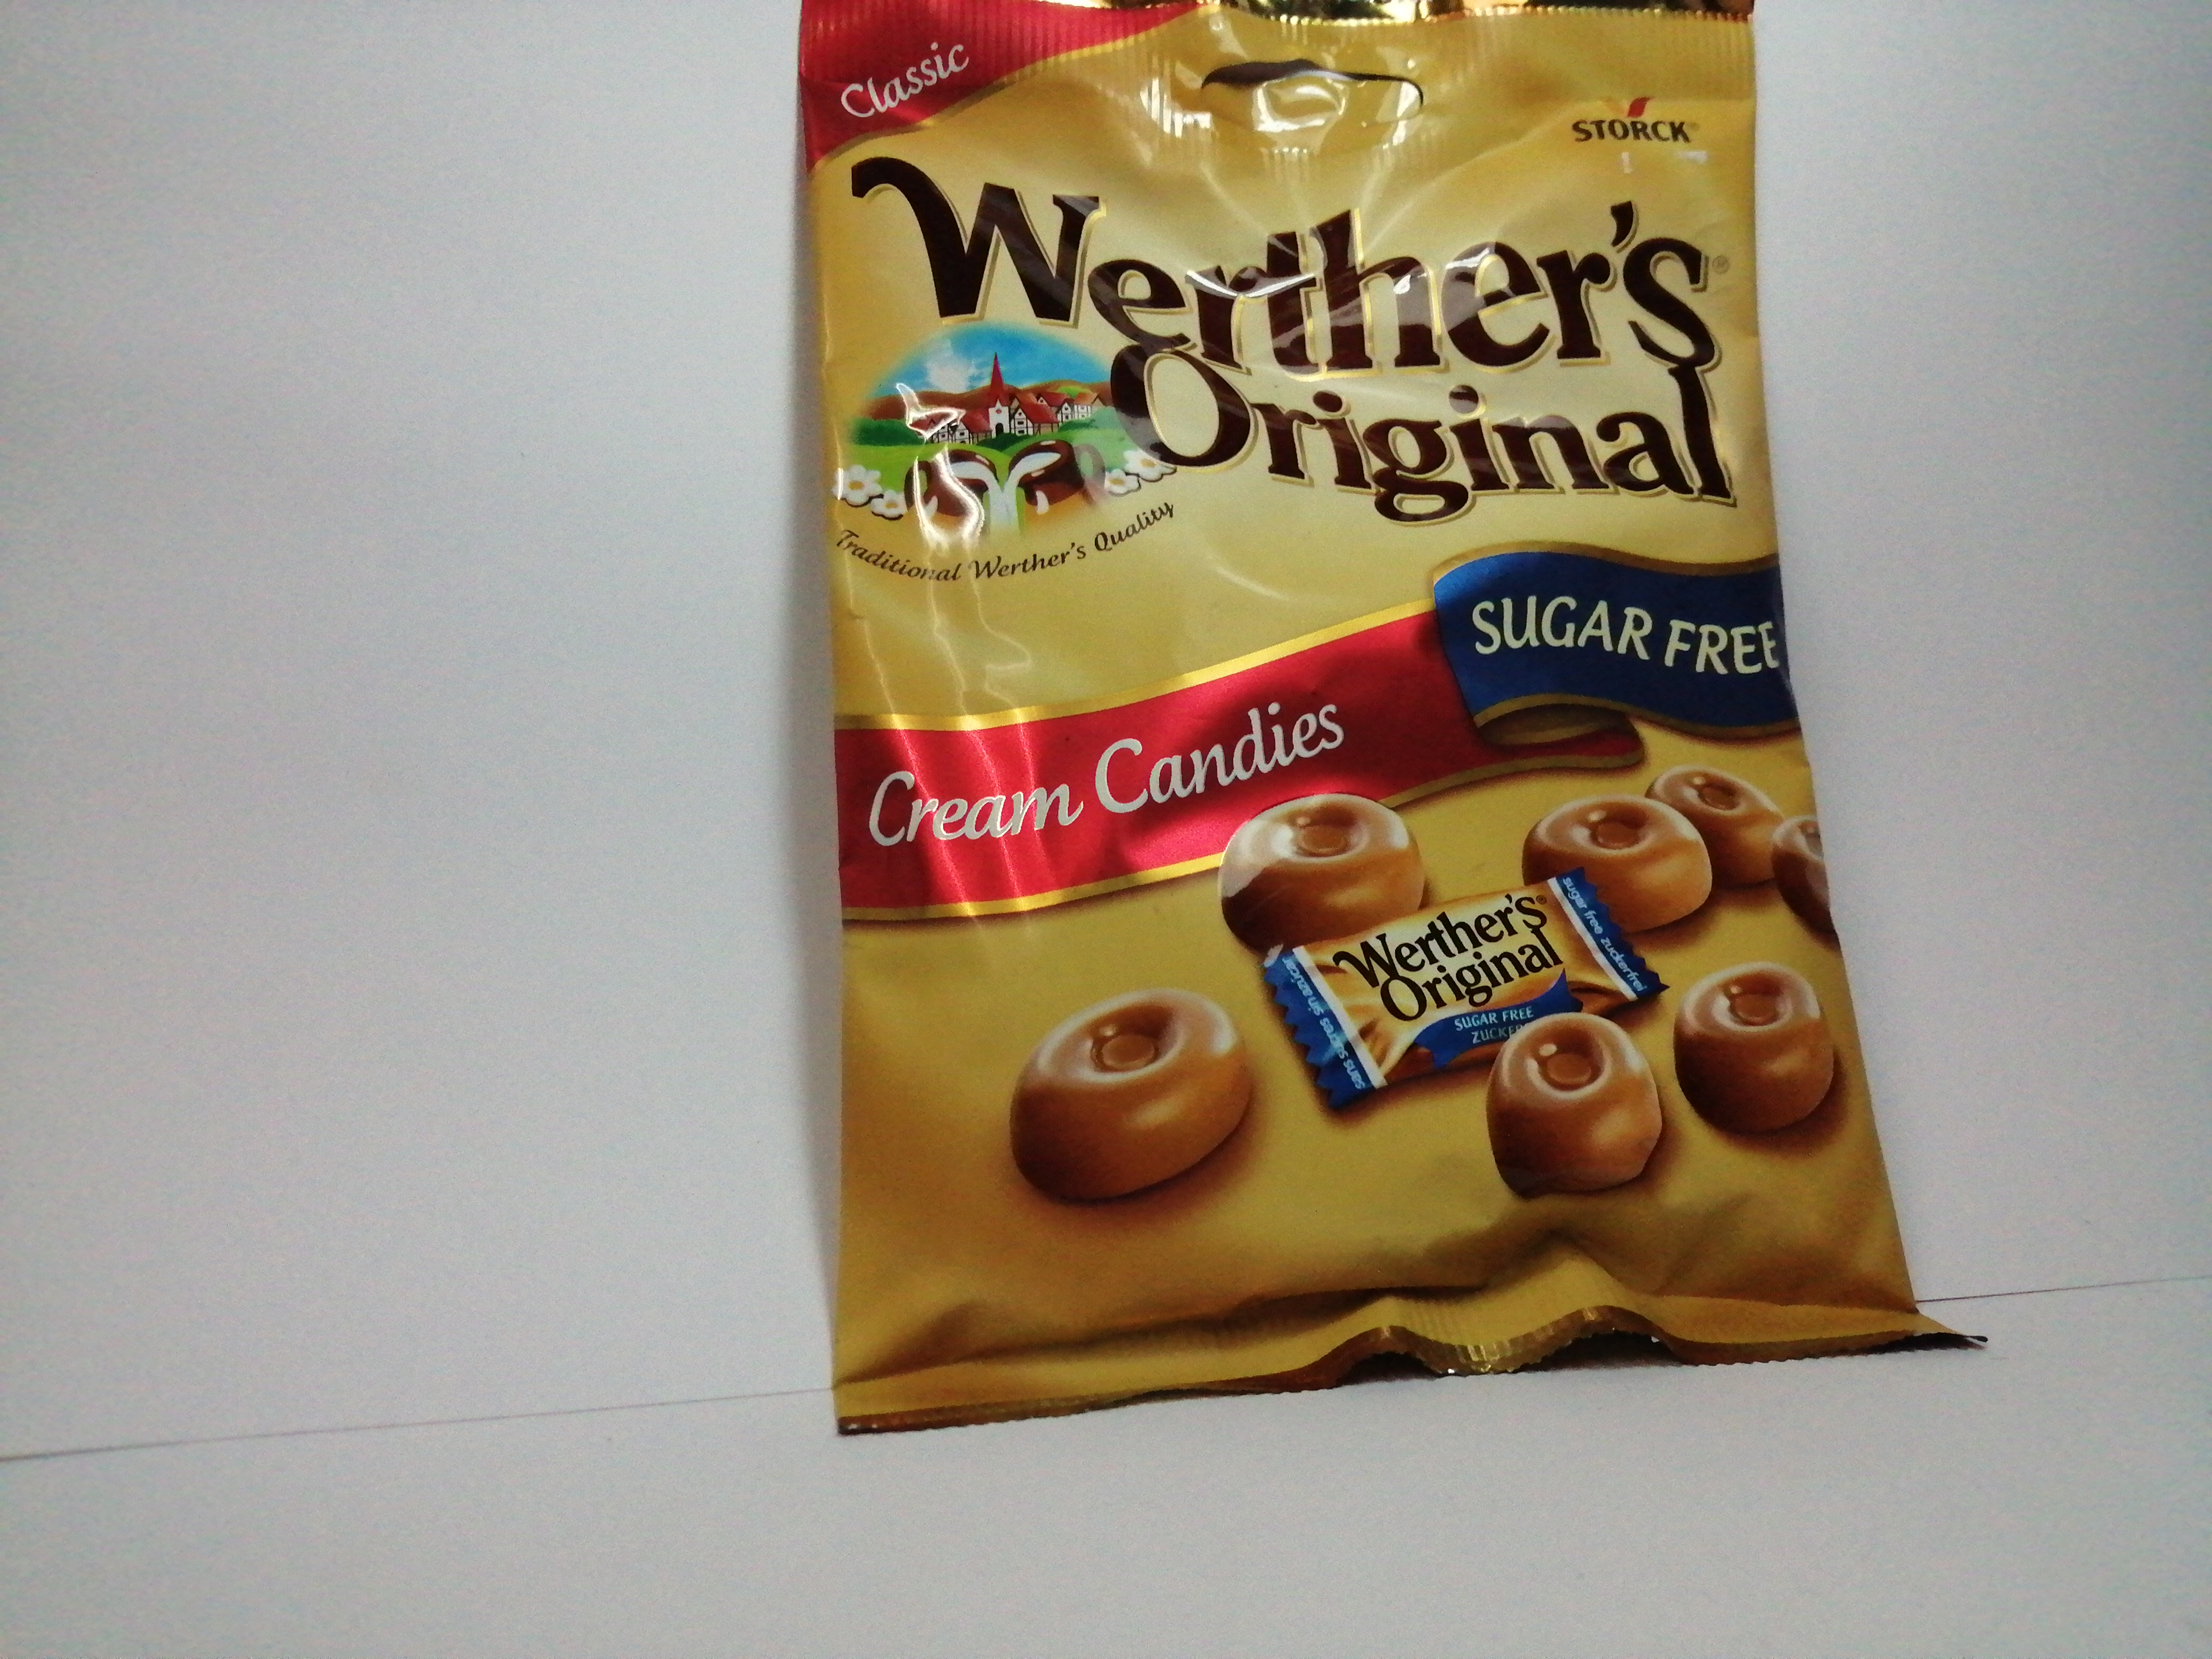dulces: (786, 0, 1986, 1427)
